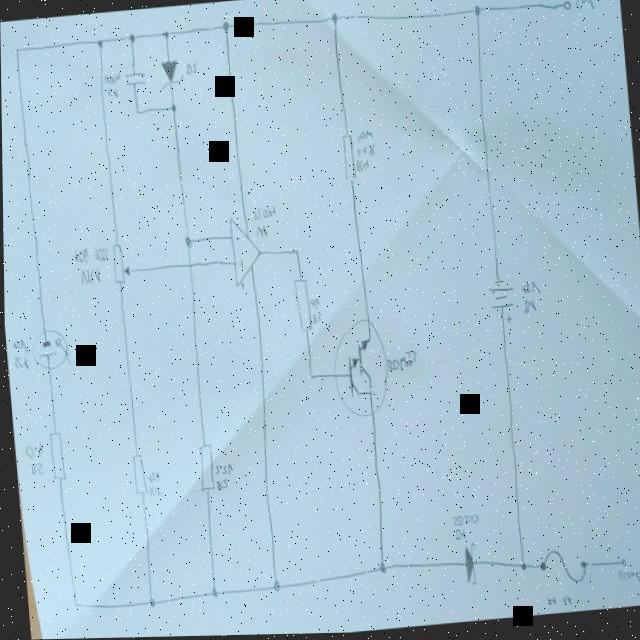capacitor: (122, 71, 147, 90)
crossover: (185, 263, 192, 272)
diode: (157, 59, 185, 94), (460, 543, 477, 589)
junction: (471, 5, 482, 22), (375, 562, 386, 578), (269, 580, 279, 595), (220, 21, 230, 35), (328, 14, 338, 27), (126, 34, 136, 46), (207, 588, 217, 600), (145, 597, 154, 610), (182, 237, 191, 250), (161, 31, 170, 41), (168, 104, 176, 115), (95, 39, 103, 50), (516, 564, 524, 574), (69, 600, 77, 609), (13, 45, 20, 55), (292, 250, 299, 259), (134, 110, 140, 118), (307, 375, 312, 382)
resistor: (291, 278, 311, 335), (46, 431, 65, 483), (108, 243, 130, 286), (195, 444, 213, 494), (128, 453, 146, 497), (339, 134, 355, 183)
source: (485, 279, 516, 330)
terminal: (561, 2, 572, 16), (617, 561, 625, 570)
text: (383, 352, 416, 376), (449, 514, 478, 532), (250, 205, 276, 224), (77, 268, 100, 288), (614, 571, 639, 589), (22, 441, 43, 461), (572, 0, 596, 17), (518, 283, 541, 299), (91, 245, 108, 266), (71, 246, 88, 267), (355, 144, 375, 160), (212, 464, 233, 479), (11, 355, 28, 373), (9, 338, 27, 355), (102, 73, 122, 88), (521, 300, 536, 318), (355, 131, 373, 146), (307, 297, 319, 318), (27, 461, 42, 477), (309, 307, 320, 328), (145, 471, 160, 486), (145, 484, 159, 500), (184, 63, 198, 78), (354, 161, 368, 176), (452, 530, 467, 544), (253, 226, 266, 241), (214, 478, 227, 492), (106, 87, 119, 101), (544, 597, 555, 610), (559, 597, 570, 610)
transistor: (327, 318, 390, 424)
